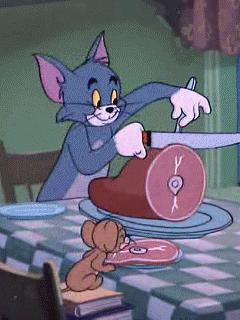jerry: (57, 217, 134, 294)
